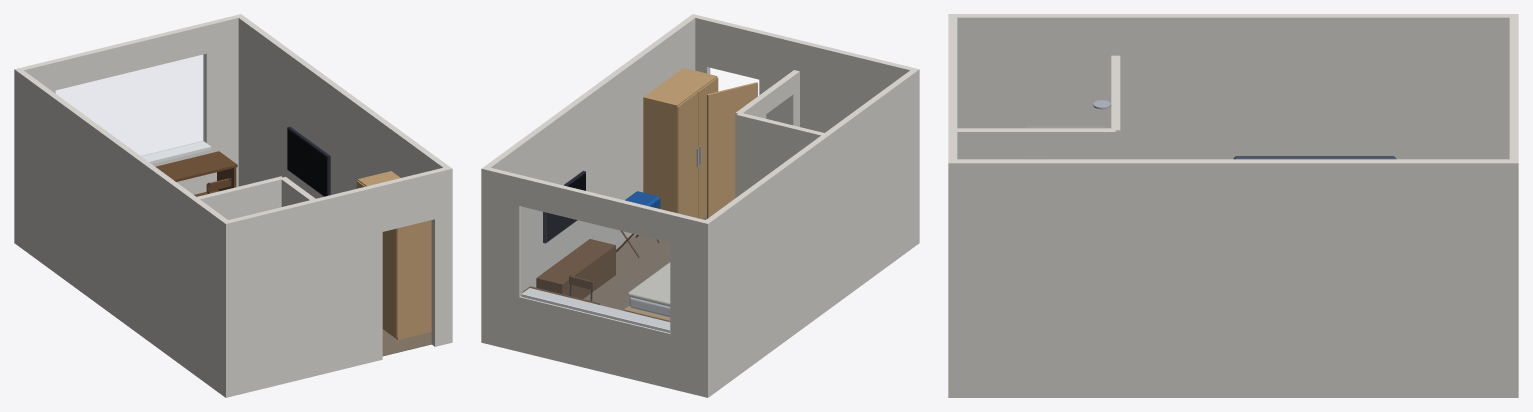
Rendered from hsp-007.glb.
3 renders of one model, left to right at view 1: azimuth 30°, elevation 25°; view 2: azimuth 150°, elevation 25°; view 3: azimuth 270°, elevation 25°, orthographic. The views are drawn at different scales.
Parts seen in each view (by area): view 1: wall_paint, glass_clear, oak, walnut, monitor_screen, carpet_warm, white, plastic_dark; view 2: wall_paint, glass_clear, oak, walnut, carpet_warm, white, linen, monitor_screen, airline_blue; view 3: wall_paint, upholstery.
Part boxes in pixels (x1,y1,x2,y2): wall_paint: (14, 14, 452, 397); glass_clear: (56, 54, 204, 155); oak: (356, 171, 431, 339); walnut: (155, 151, 237, 196); monitor_screen: (287, 129, 326, 196); carpet_warm: (382, 329, 431, 356); white: (141, 140, 211, 163); plastic_dark: (287, 126, 330, 196); wall_paint: (481, 14, 919, 397); glass_clear: (521, 207, 669, 329); oak: (623, 68, 757, 321); walnut: (522, 231, 659, 304); carpet_warm: (583, 215, 706, 310); white: (521, 288, 670, 332); linen: (627, 262, 670, 306); monitor_screen: (546, 173, 585, 241); airline_blue: (625, 191, 660, 208); wall_paint: (948, 14, 1518, 397); upholstery: (1233, 156, 1396, 159).
Bounding box in the file's own units: 3.9 × 2.86 × 6.3.
